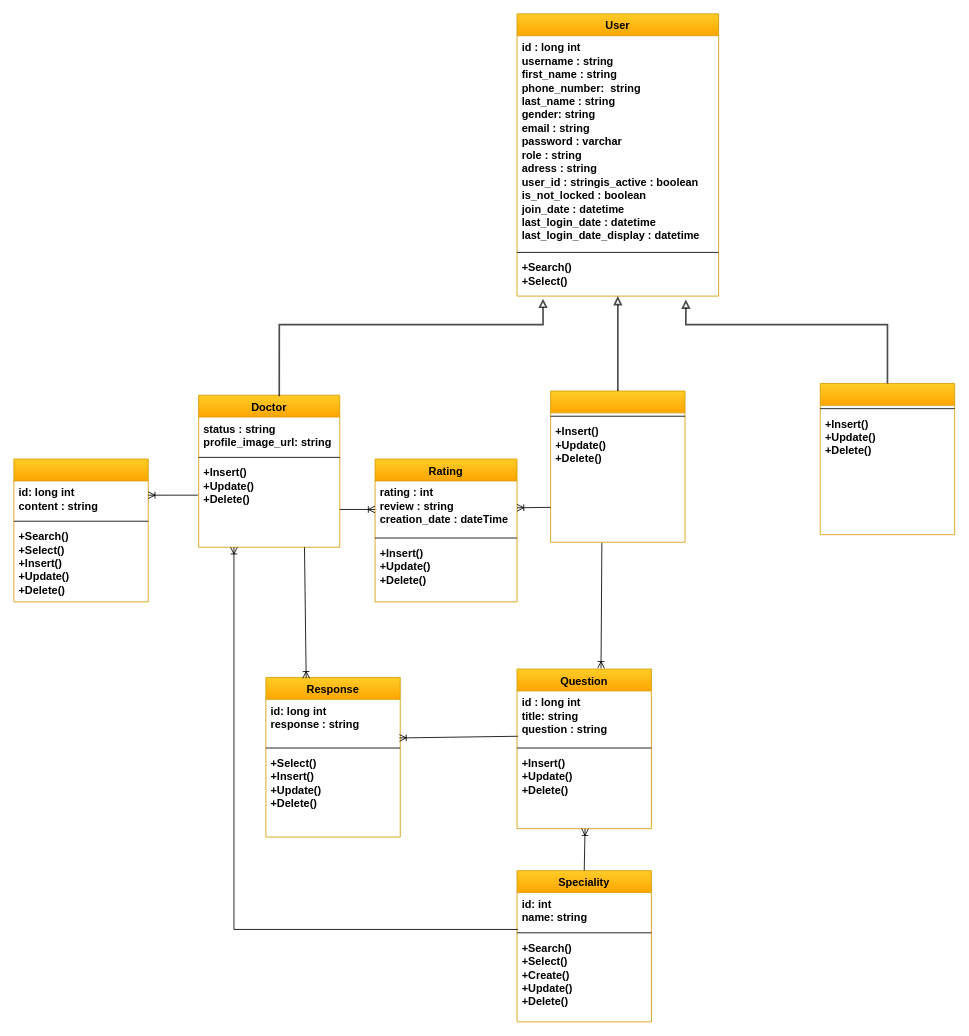
This 969x1036 diagram has some shape labels left out. The shapes that lost their labels are listed below. From the top down, each one's box as (x1, y1, x2, y2) in pixels, then its label:
(550, 390, 685, 542): Visitor
(819, 383, 955, 535): Administrator
(13, 458, 148, 602): Article
